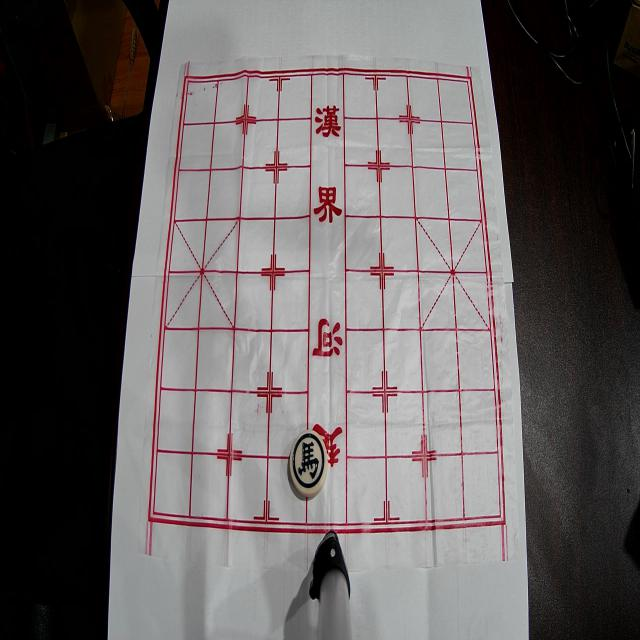black-horse: (290, 430, 328, 497)
